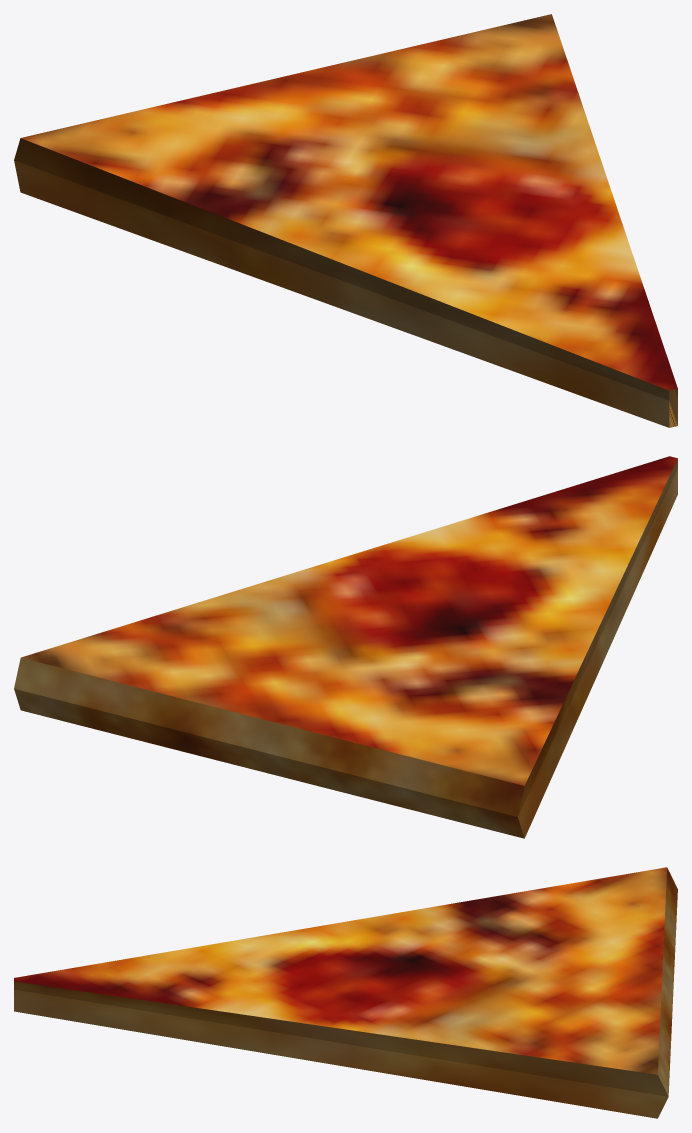
File: pizza_slice.obj
3 renders of one model, top to bottom at view 1: azimuth 30°, elevation 25°; view 2: azimuth 150°, elevation 25°; view 3: azimuth 270°, elevation 25°, orthographic. The views are drawn at different scales.
Parts seen in each view (by area): view 1: pizza_slice; view 2: pizza_slice; view 3: pizza_slice.
Part boxes in pixels (box(x1,y1,x2,y2)): pizza_slice: box(14, 14, 677, 427); pizza_slice: box(14, 456, 677, 838); pizza_slice: box(14, 867, 677, 1118).
Bounding box in the file's own units: 0.1757 × 0.0174 × 0.2374.
